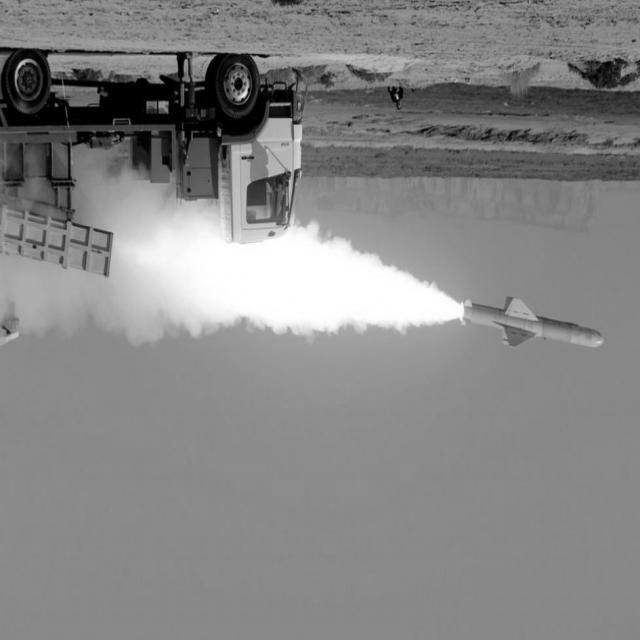Missile: (455, 288, 608, 358)
